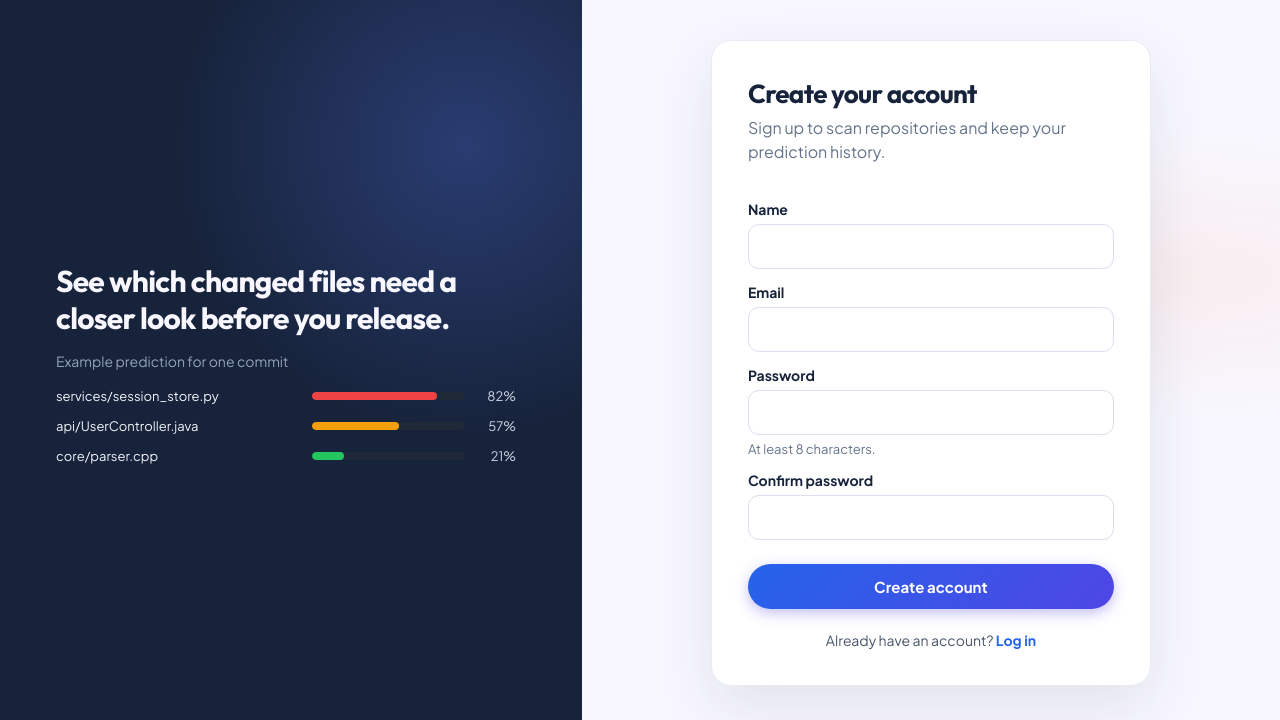
Test: SignupPage › rejects passwords shorter than eight characters
The width and height of the screenshot is (1280, 720).
In the field labelled "Name": (931, 246) left=748, top=224, right=1114, bottom=269, type "Test User"
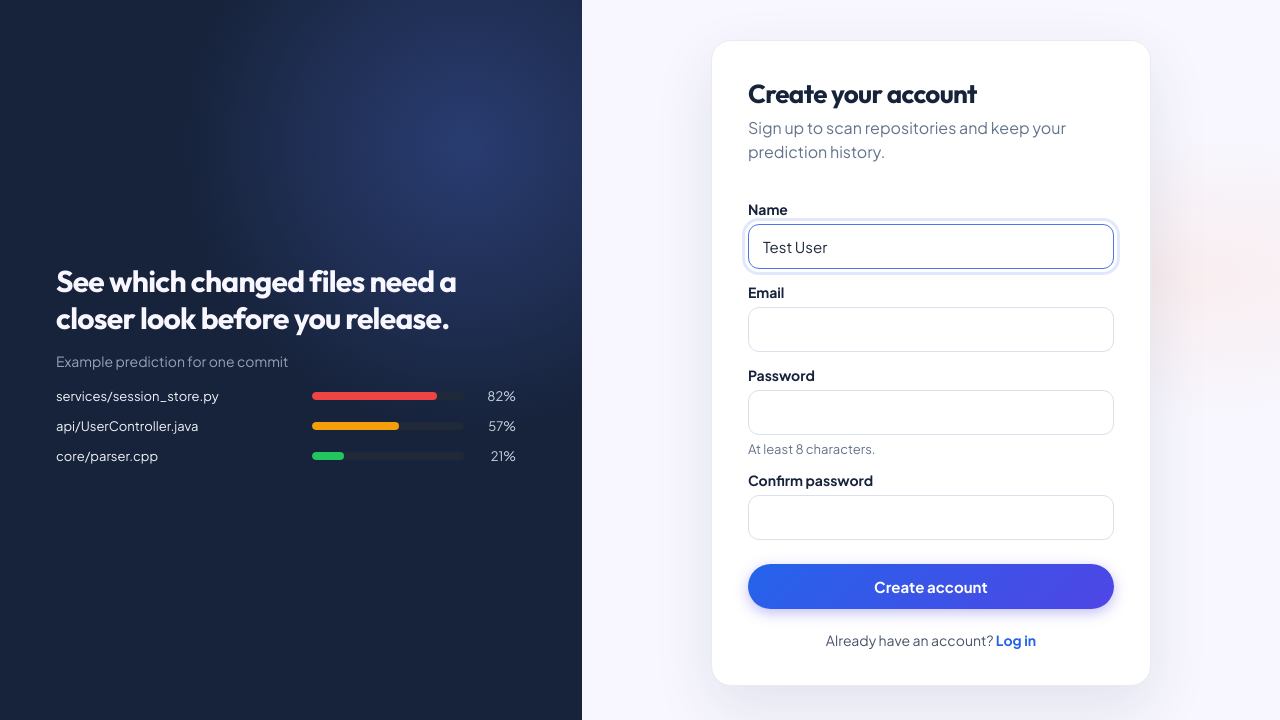
In the field labelled "Email": (931, 330) left=748, top=307, right=1114, bottom=352, type "short@example.com"
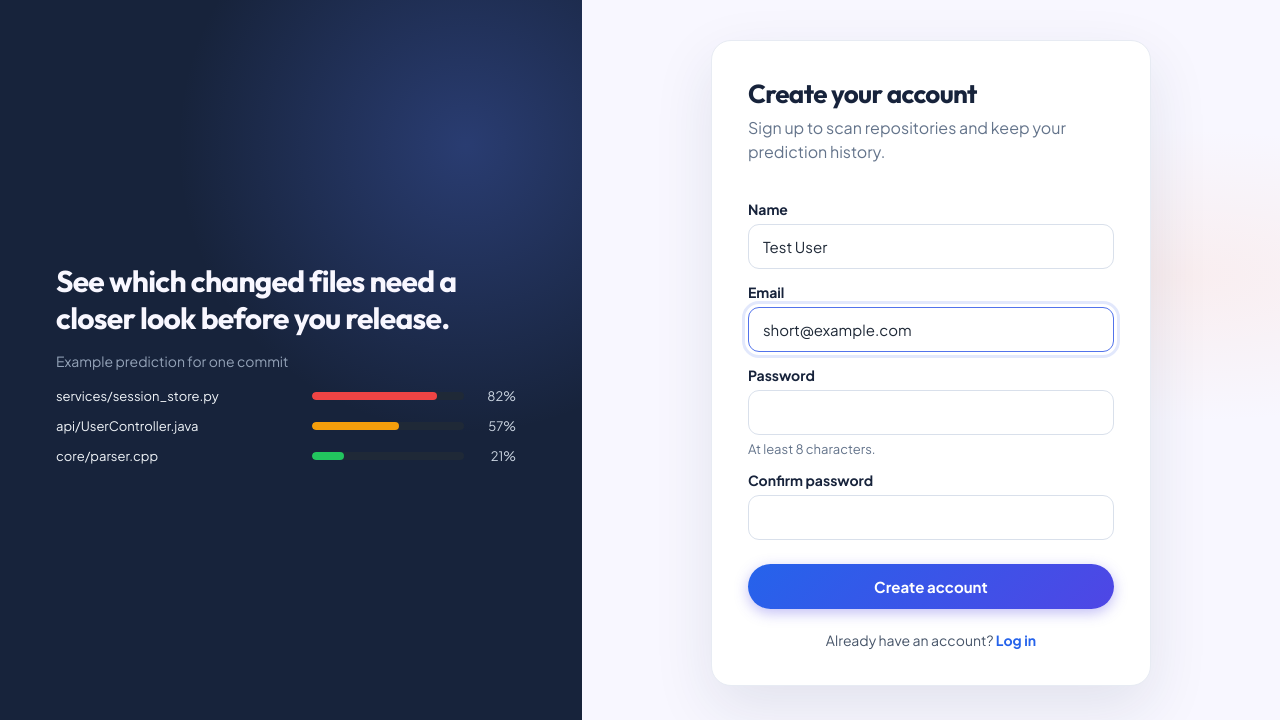
In the password field labelled "Password": (931, 412) left=748, top=390, right=1114, bottom=435, type "short"
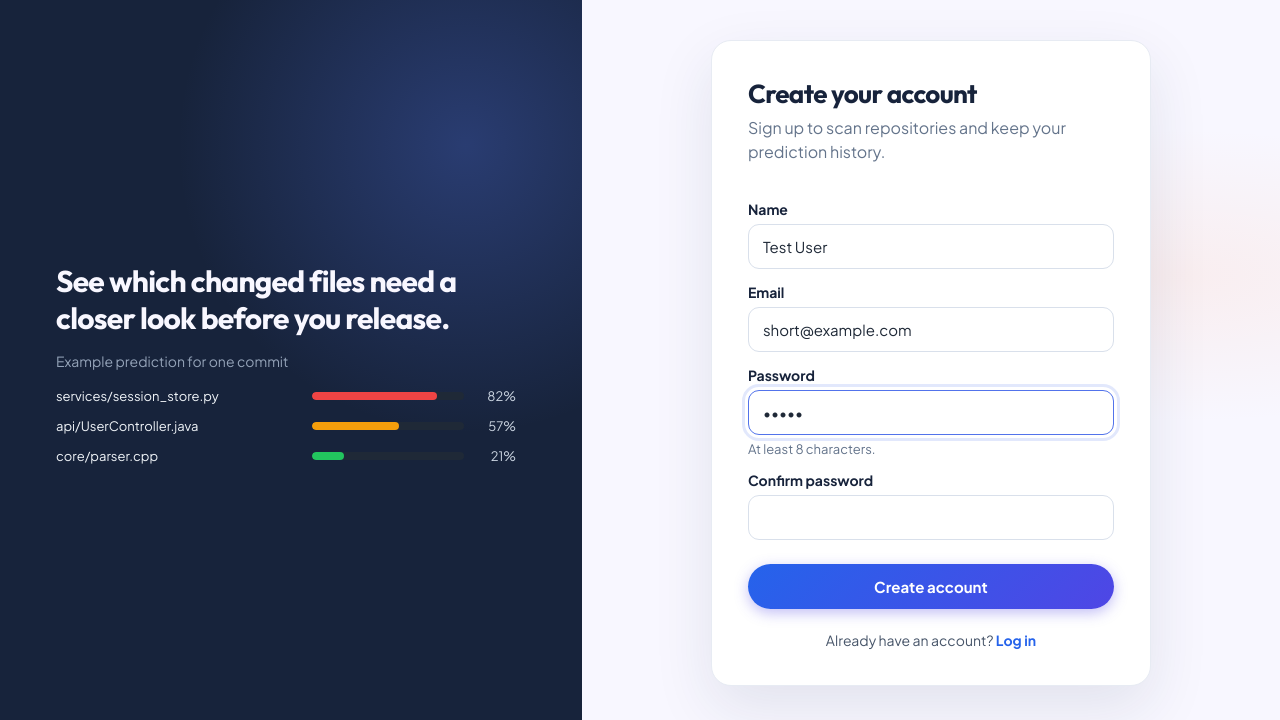
In the password field labelled "Confirm password": (931, 518) left=748, top=495, right=1114, bottom=540, type "short"
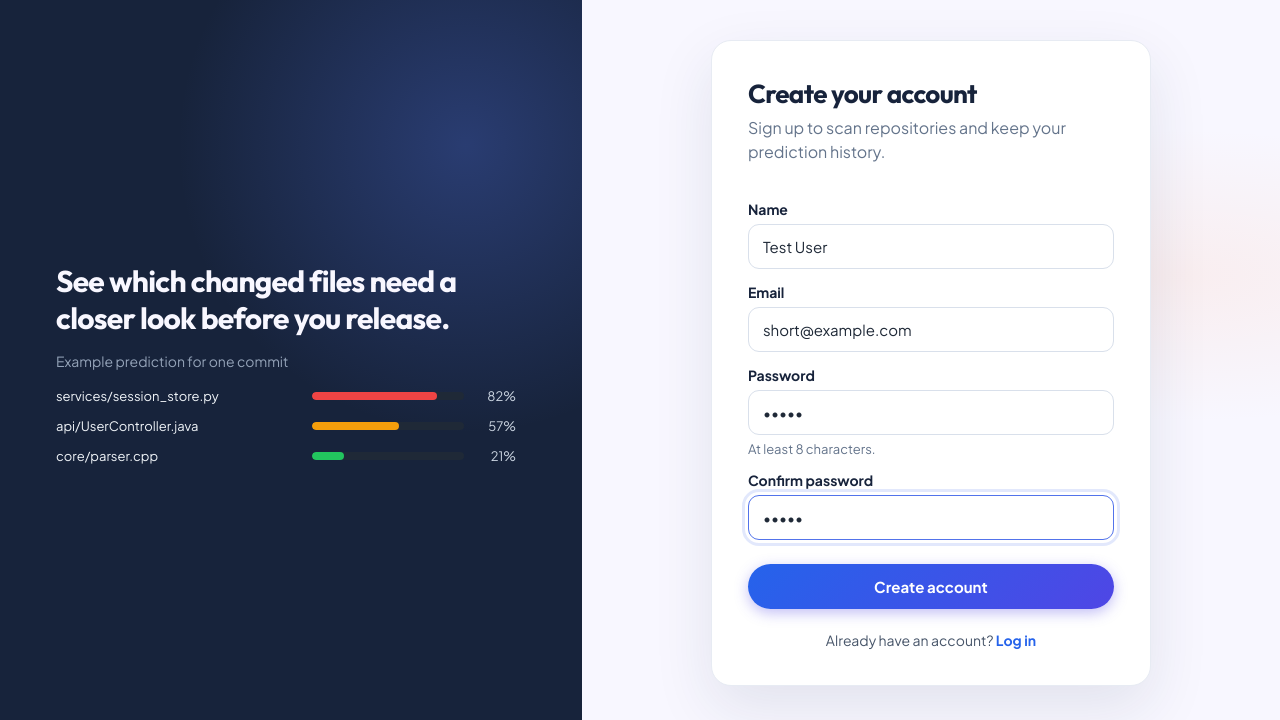
Click the button "Create account": (931, 586) left=748, top=564, right=1114, bottom=609
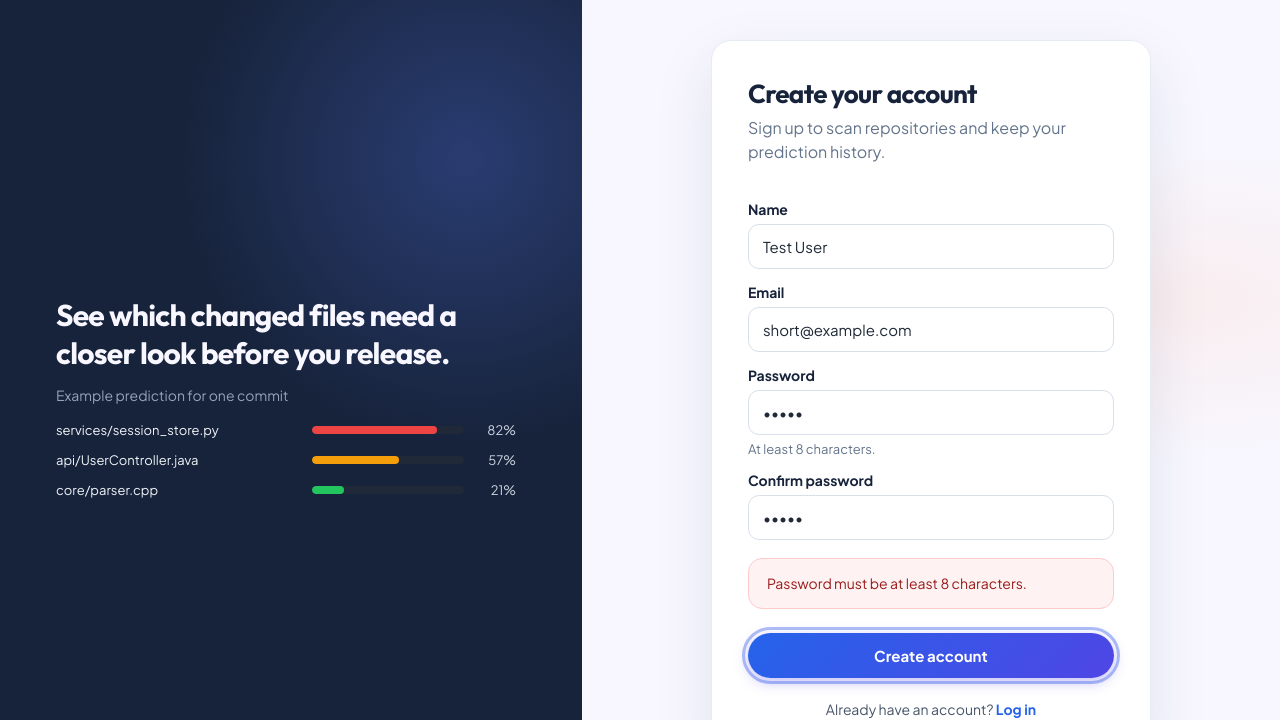
Check: the message reads "Password must be at least 8 characters.", box left=767, top=574, right=1027, bottom=592
